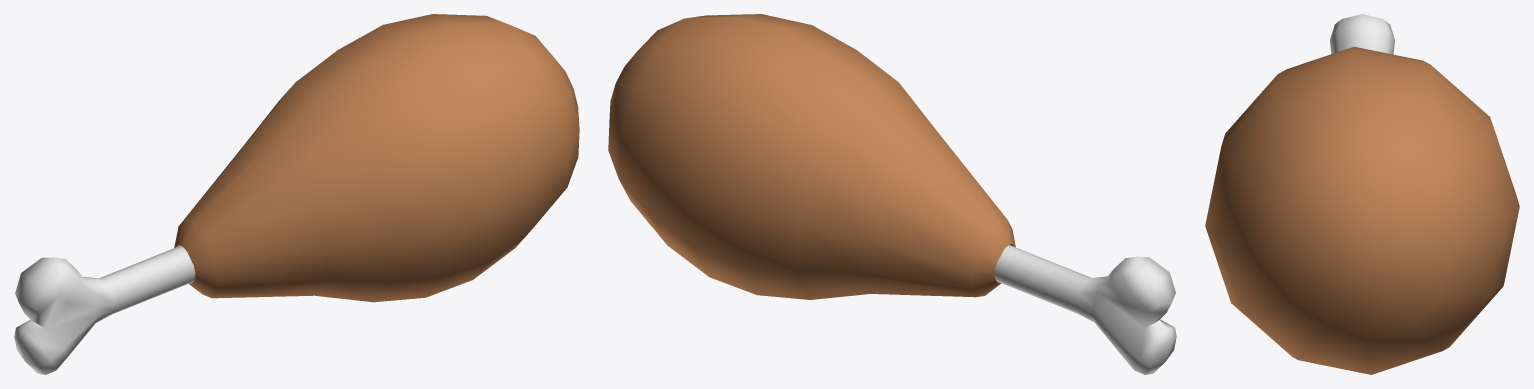
File: Muslo de pollo.fbx
3 renders of one model, left to right at view 1: azimuth 30°, elevation 25°; view 2: azimuth 150°, elevation 25°; view 3: azimuth 270°, elevation 25°, orthographic. The views are drawn at different scales.
Visible parts, largest first — view 1: MUSLO DE POLLO; view 2: MUSLO DE POLLO; view 3: MUSLO DE POLLO.
Boxes of the visible parts, x1,y1,x2,y2 form: MUSLO DE POLLO: (14, 14, 579, 374); MUSLO DE POLLO: (608, 14, 1176, 374); MUSLO DE POLLO: (1205, 14, 1519, 374).
Bounding box in the file's own units: 27.71 × 12.18 × 11.53.
